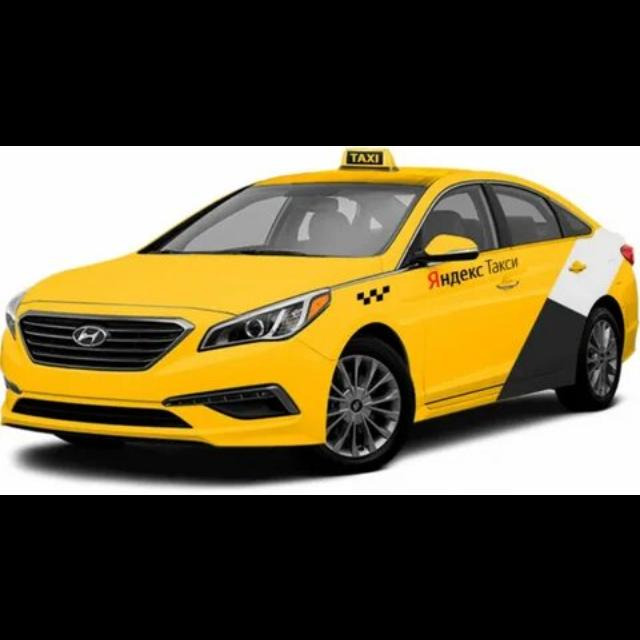taxi: (1, 146, 639, 472)
